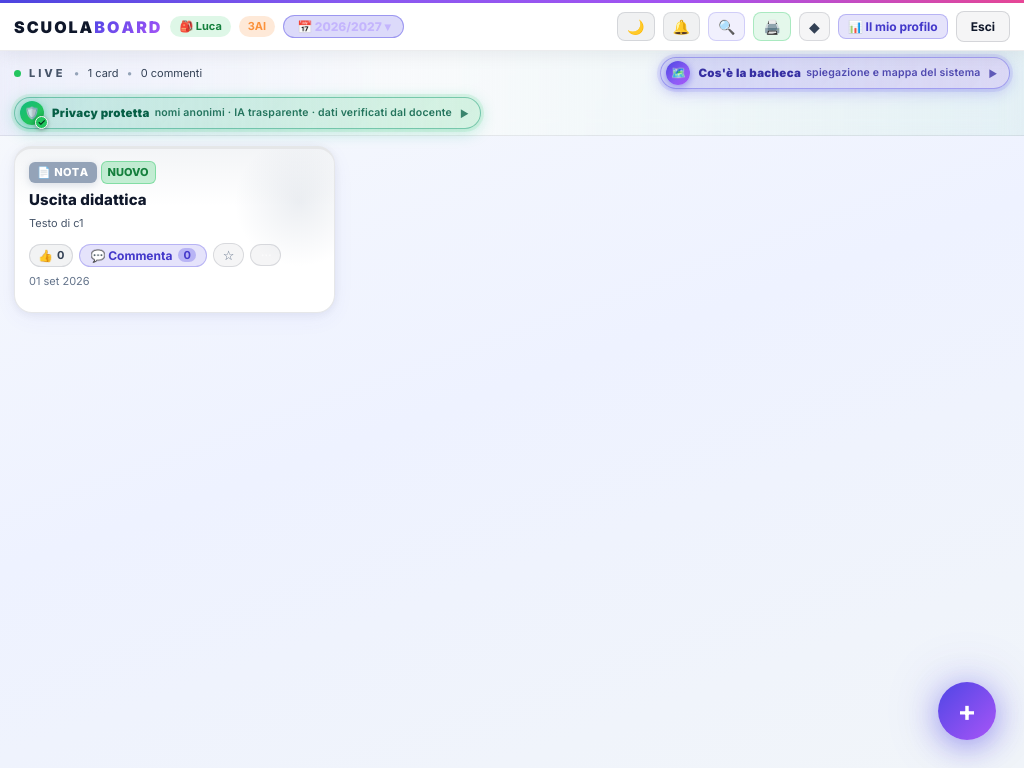
Test: avvisi di classe: commento di uno studente › il commento avvisa i compagni di classe (e i prof), non chi lo scrive
Step 1. Click the text "Uscita didattica" → (88, 199), box top-left (29, 190), bottom-right (147, 208)
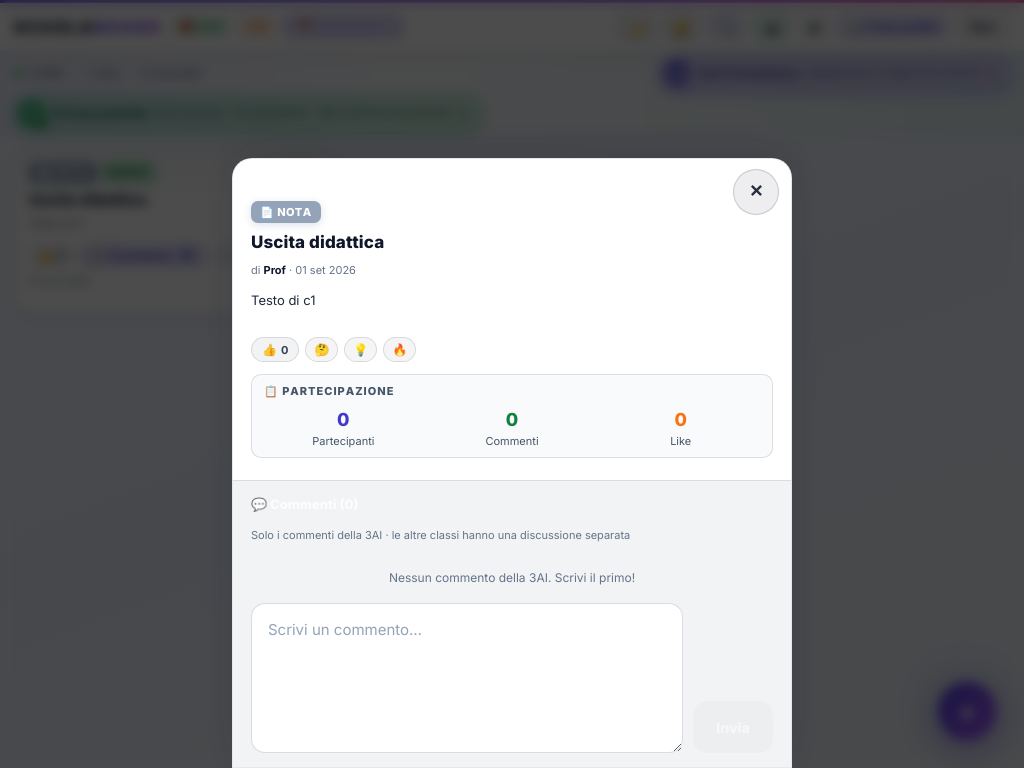
Step 2. Type "Che posto fantastico!" into the text box with placeholder "Scrivi un commento…" → (467, 678), box top-left (251, 603), bottom-right (683, 753)
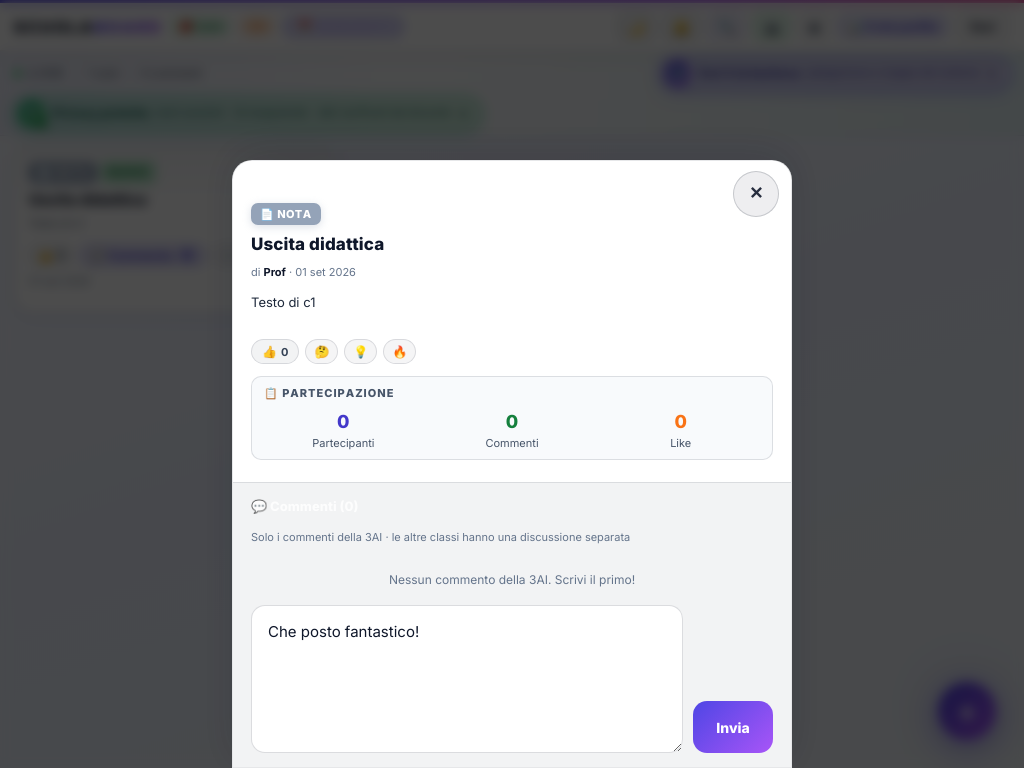
Step 3. Press Enter in the text box with placeholder "Scrivi un commento…", box top-left (251, 605), bottom-right (683, 753)
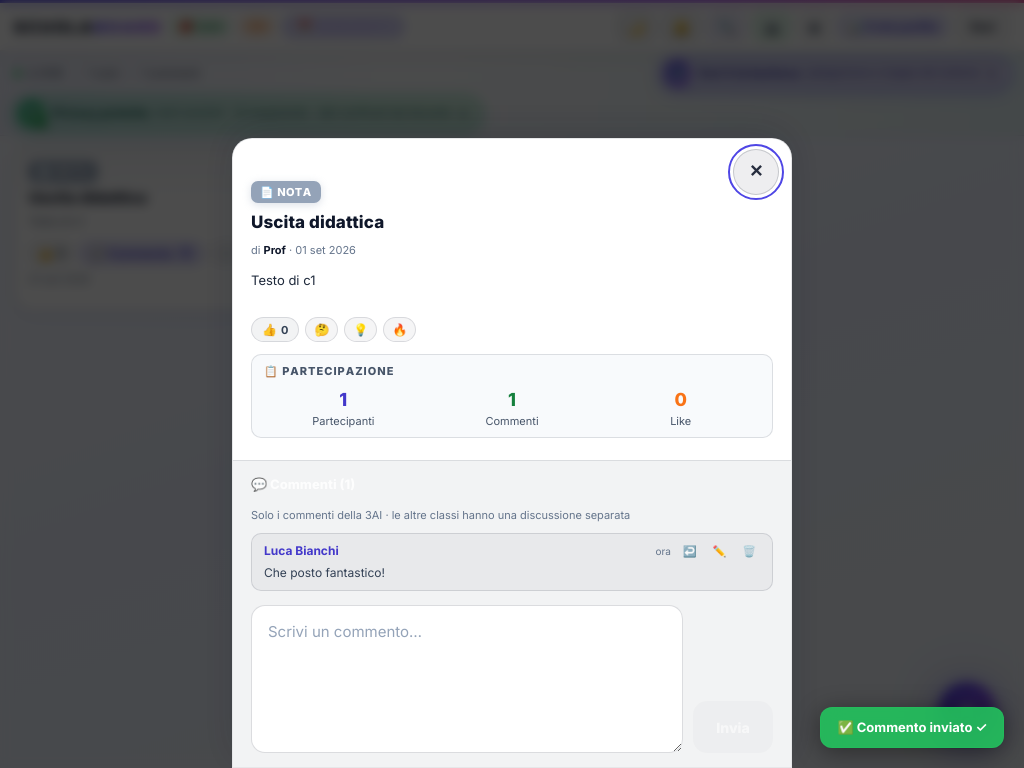
Expected: the text "Che posto fantastico!" is shown, top-left (264, 565), bottom-right (385, 580)
